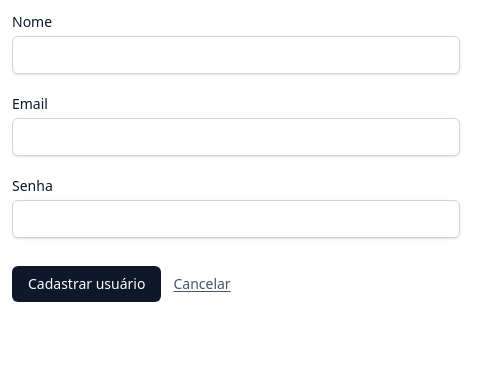
Scenario: CadastroUsuarioForm — validação antes de enviar › campo vazio pede o campo, não acusa o formato
Click the button "Cadastrar usuário".
click(87, 284)  # box [12, 266, 161, 302]
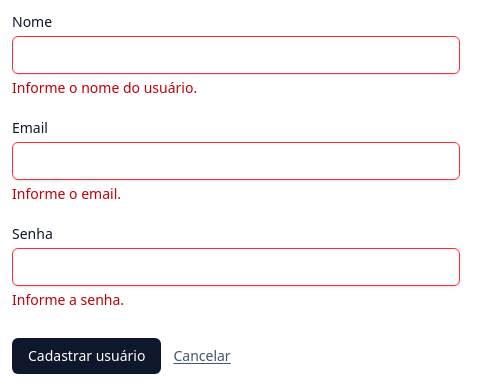
Result: the text "Informe o email." is shown at [12, 184, 121, 203]
